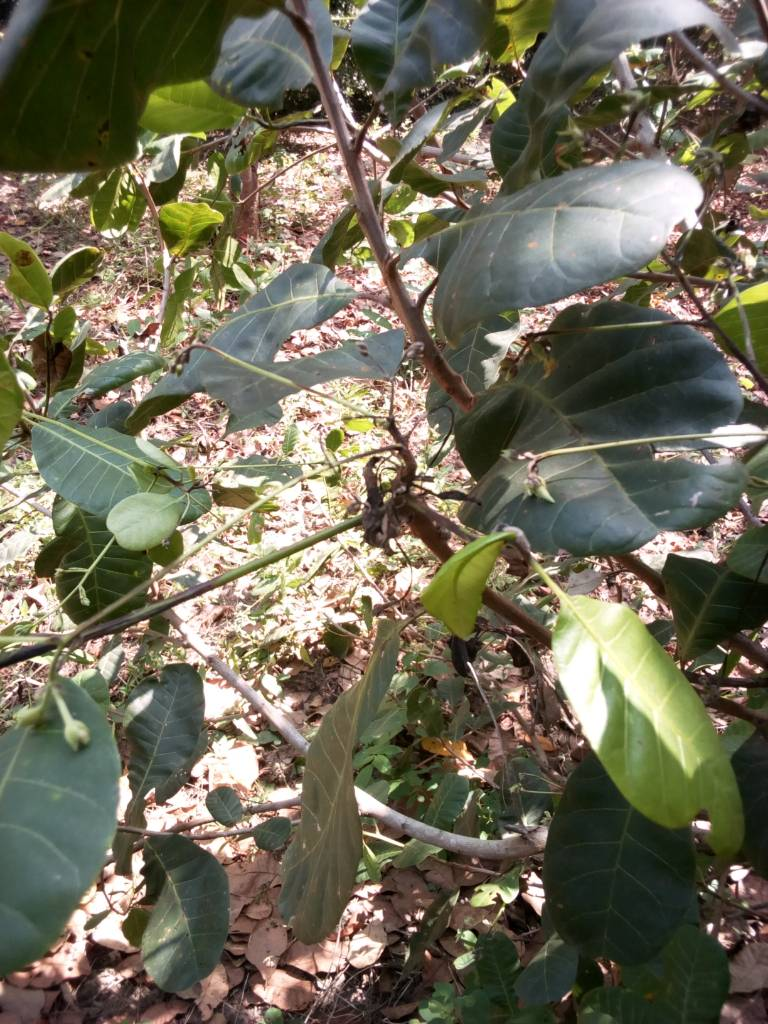Dessèchement des bourgeons: (358, 450, 466, 553)
